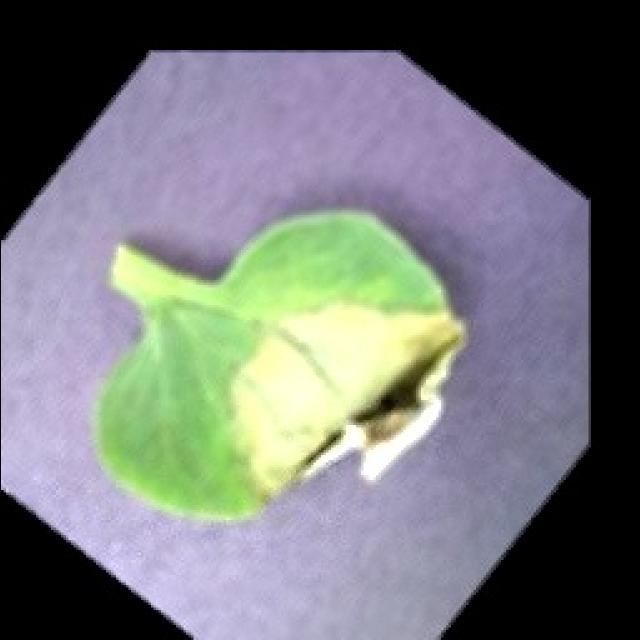leaves: (75, 198, 481, 534)
